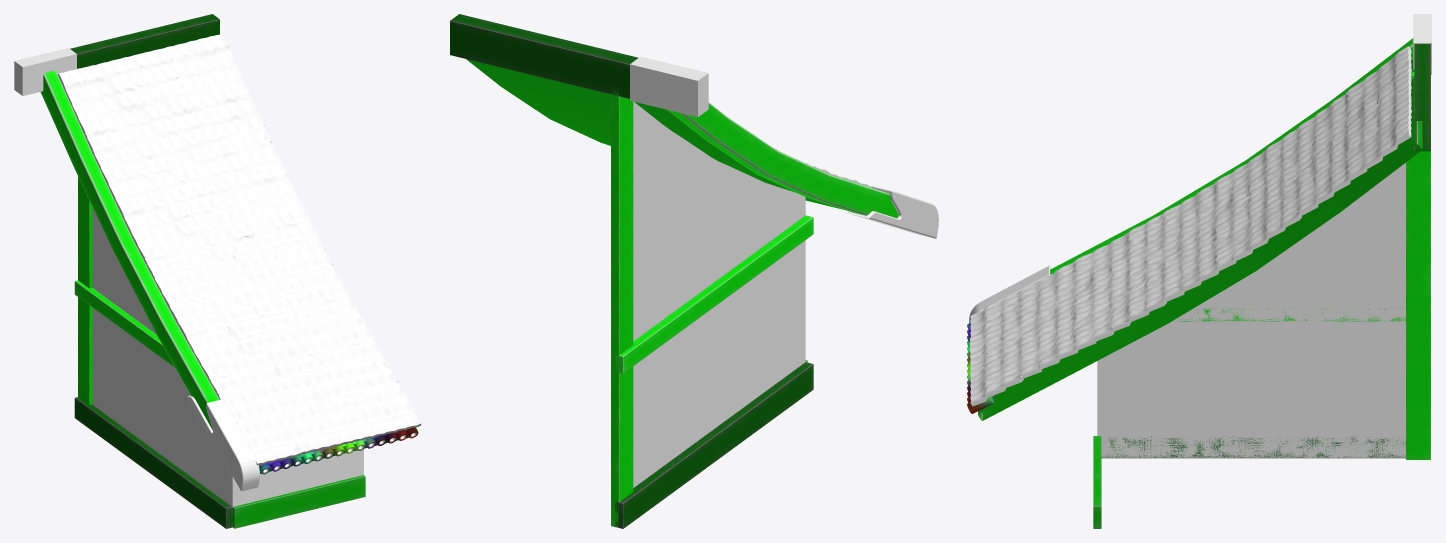
The model's file is roof_200_01_left.fbx.
The picture shows the model from 3 angles, left to right: view 1: azimuth 30°, elevation 25°; view 2: azimuth 150°, elevation 25°; view 3: azimuth 270°, elevation 25°; orthographic projection. The views are drawn at different scales.
Visible parts, largest first — view 1: roof_200_01_left; view 2: roof_200_01_left; view 3: roof_200_01_left.
Boxes of the visible parts, <box> form: roof_200_01_left: <box>14,14,421,528</box>; roof_200_01_left: <box>450,14,938,528</box>; roof_200_01_left: <box>967,14,1431,528</box>.
Bounding box in the file's own units: 3.01 × 5.41 × 5.58.
